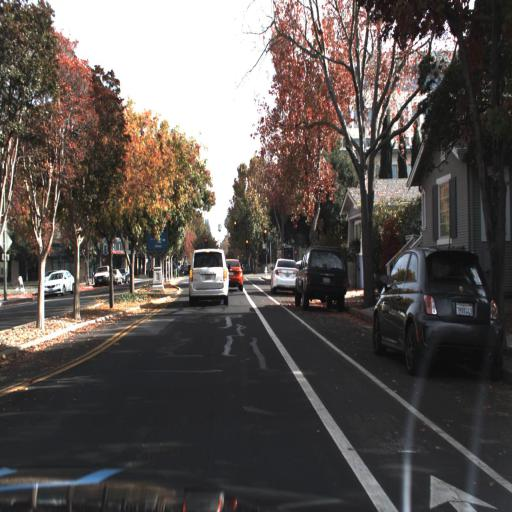car: (368, 238, 511, 384), (292, 242, 350, 313), (185, 241, 233, 307), (267, 253, 299, 296), (41, 267, 77, 304), (224, 250, 246, 294), (90, 259, 109, 289), (109, 263, 123, 289)
trafficLight-Red: (244, 238, 250, 253), (233, 219, 238, 234), (263, 227, 268, 242)
trafficLight-RedLeft: (203, 234, 209, 252)
